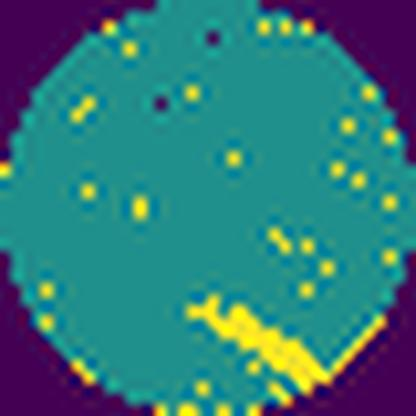Loc: (187, 292, 330, 392)
